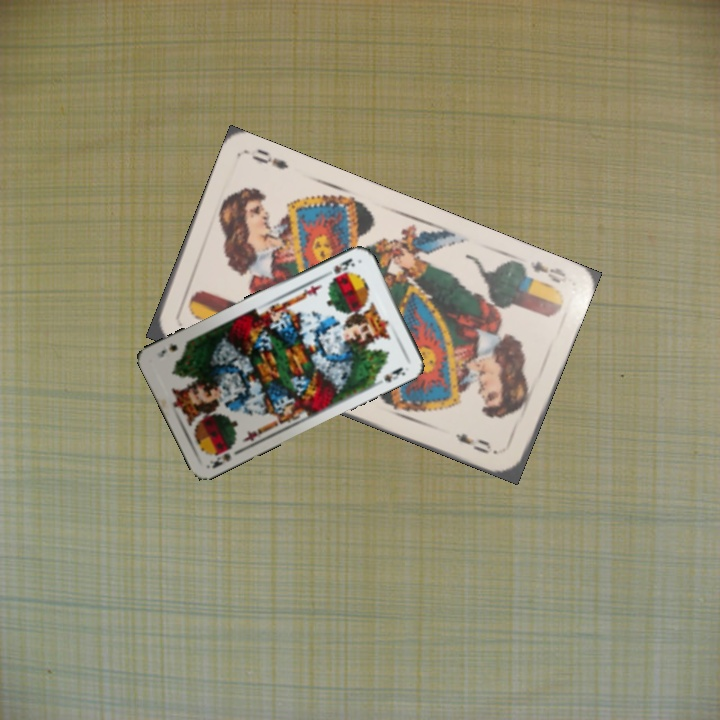EO: (525, 257, 570, 286)
SK: (329, 254, 357, 277), (206, 449, 233, 471)
